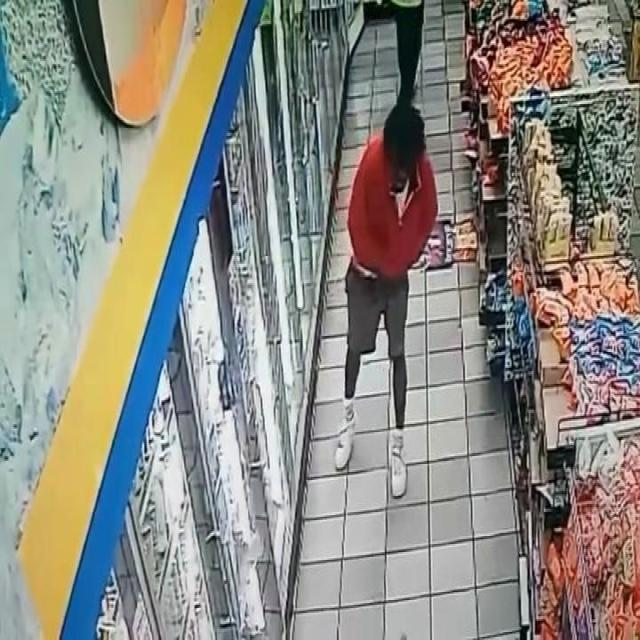Shoplifting: (302, 83, 466, 535)
